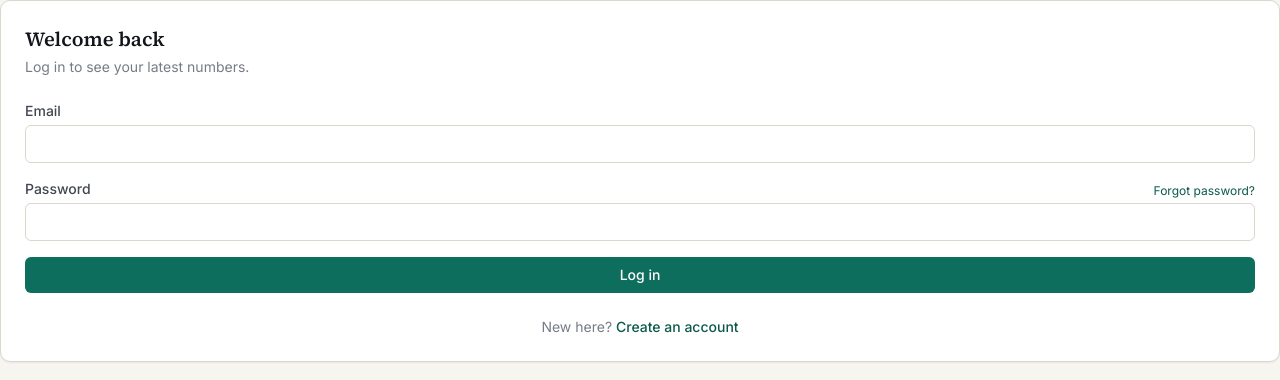
Test: LoginPage › shows a loading state while submitting
Type "a@b.com" into the field labelled "Email" at (640,144), box [25,125,1255,163]
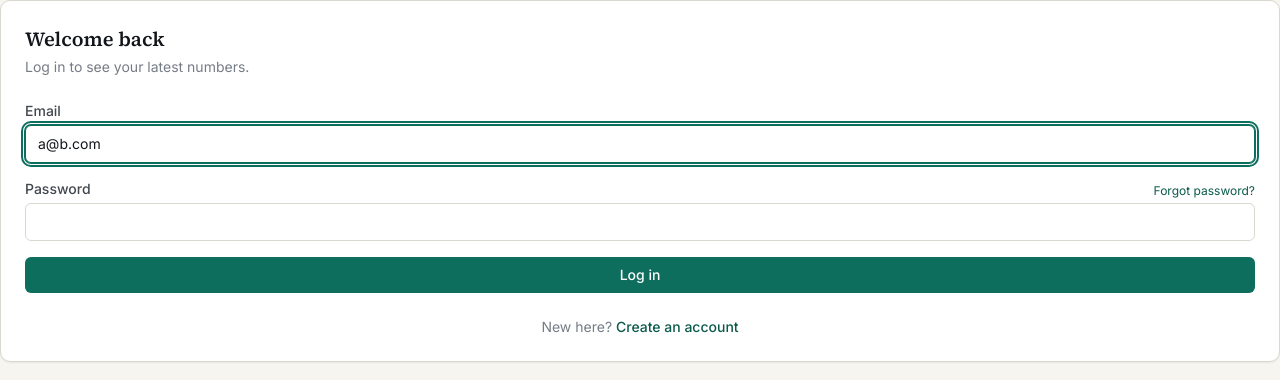
Type "Password123" into the password field labelled "Password" at (640,222), box [25,203,1255,241]
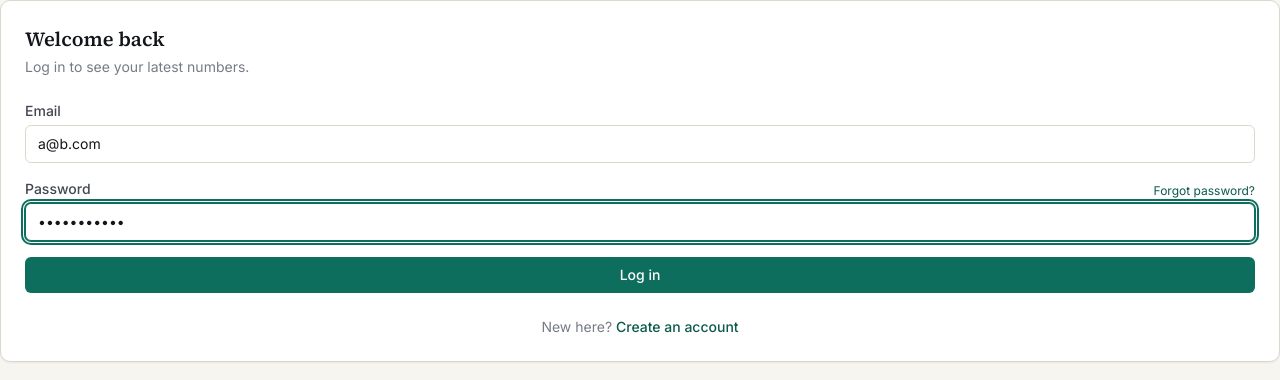
Click the button "Log in" at (640,275), box [25,257,1255,293]
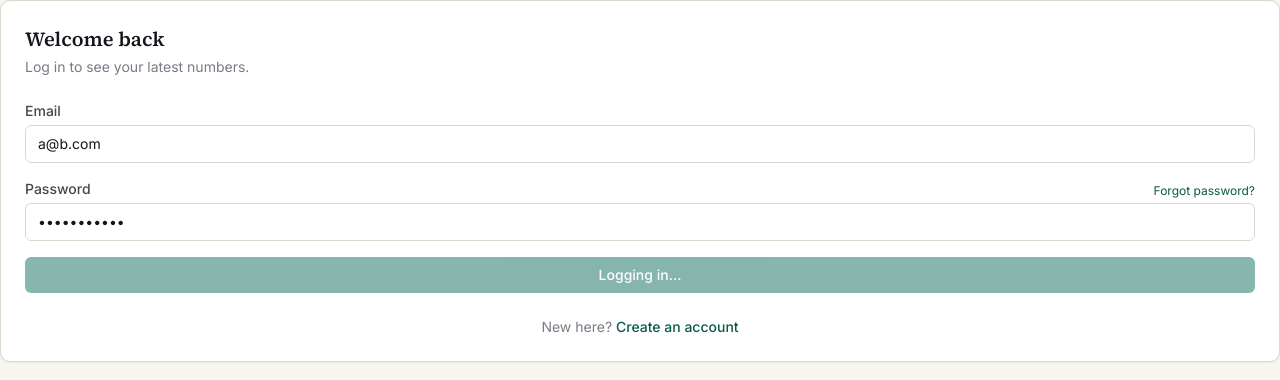
expect the button "Logging in..." is disabled: met, box [25,257,1255,293]
